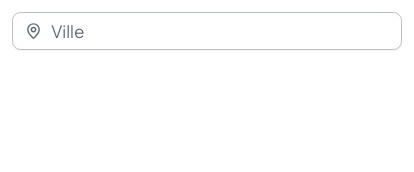
CityField, across the countries a job can be in › names the country of a suggestion outside France, and only then
The image size is (414, 172).
Later steps or results of the test are not shown.
Type "Bruxelles" into the field with placeholder "Ville" at (207,31), box [12,12,402,50]
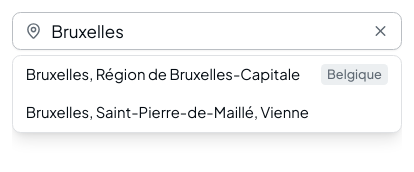
Expected: the text "Belgique" is shown, [321,64,388,85]
